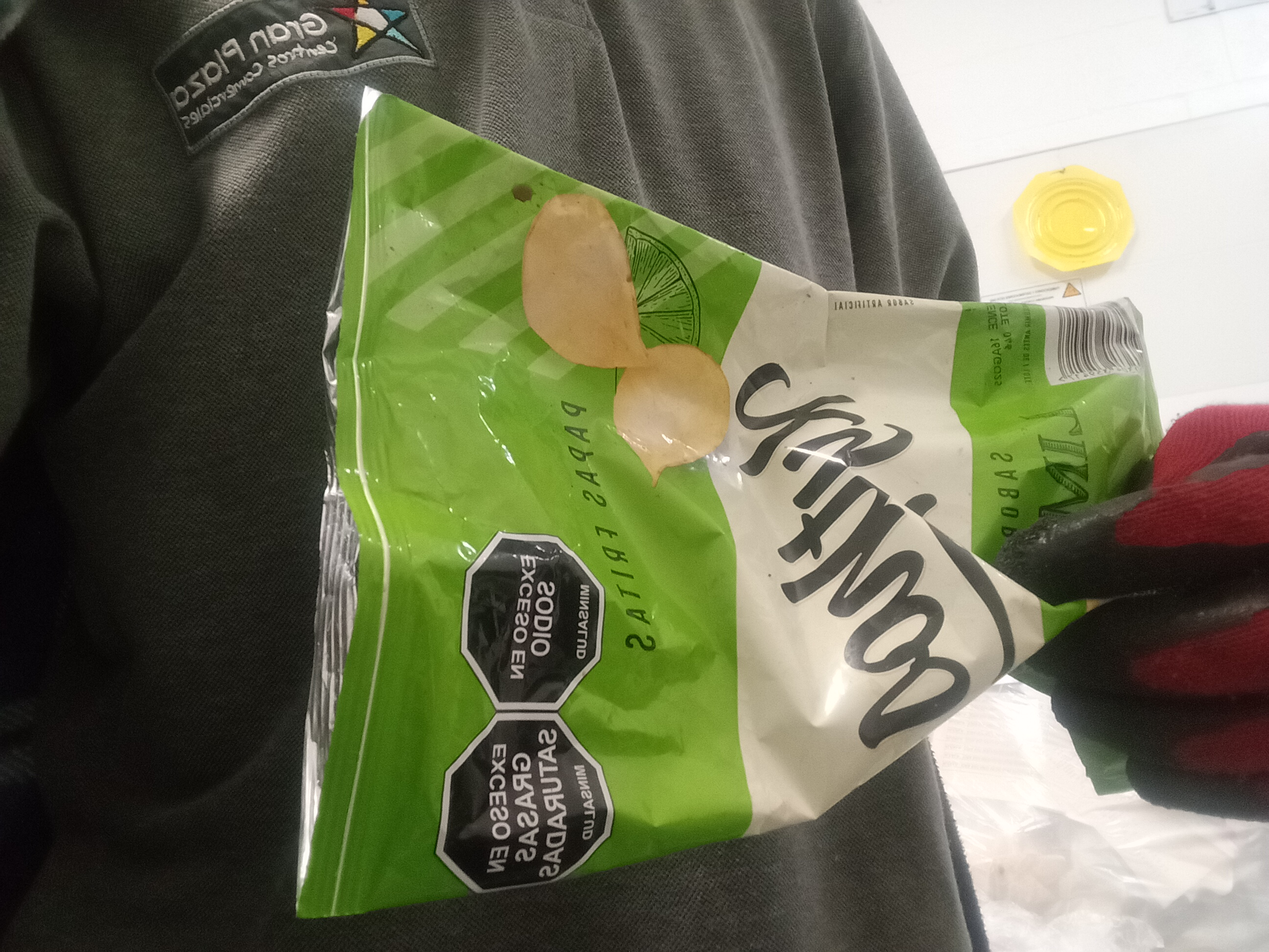Ordinario: (293, 86, 1168, 921)
